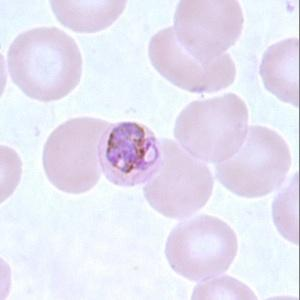Infected: (96, 119, 163, 189)
Uninfected: (149, 25, 237, 95), (143, 135, 214, 218), (214, 122, 291, 198), (5, 28, 81, 98), (165, 210, 236, 284), (175, 93, 248, 164), (42, 115, 105, 193), (173, 0, 245, 63)
